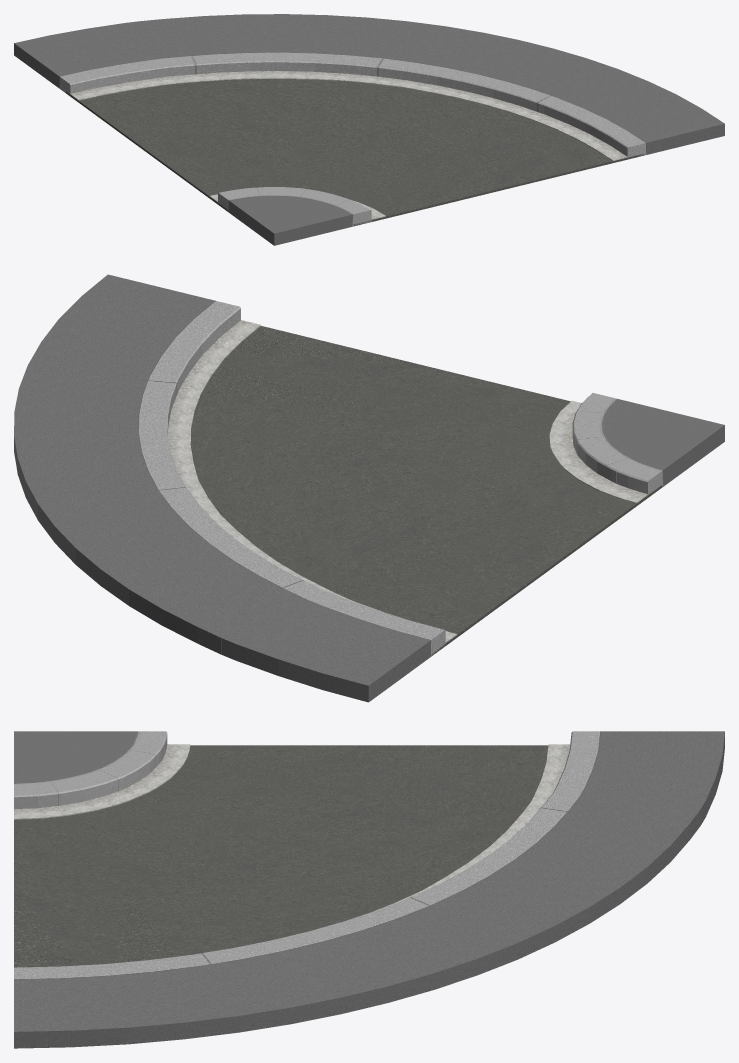
The model's file is routeCourbe1VoieAvecTrottoirs90Deg.obj.
3 renders of one model, top to bottom at view 1: azimuth 30°, elevation 25°; view 2: azimuth 150°, elevation 25°; view 3: azimuth 270°, elevation 25°, orthographic. The views are drawn at different scales.
Visible parts, largest first — view 1: routeCourbe1VoieAvecTrottoirs90degrees_Plane.75deg, routeCourbe1VoieAvecTrottoirs90degrees_Plane.15deg; view 2: routeCourbe1VoieAvecTrottoirs90degrees_Plane.75deg, routeCourbe1VoieAvecTrottoirs90degrees_Plane.15deg; view 3: routeCourbe1VoieAvecTrottoirs90degrees_Plane.75deg, routeCourbe1VoieAvecTrottoirs90degrees_Plane.15deg.
Boxes of the visible parts, x1,y1,x2,y2 form: routeCourbe1VoieAvecTrottoirs90degrees_Plane.75deg: (140, 14, 724, 245); routeCourbe1VoieAvecTrottoirs90degrees_Plane.15deg: (14, 21, 274, 245); routeCourbe1VoieAvecTrottoirs90degrees_Plane.75deg: (14, 274, 724, 654); routeCourbe1VoieAvecTrottoirs90degrees_Plane.15deg: (221, 425, 724, 702); routeCourbe1VoieAvecTrottoirs90degrees_Plane.75deg: (14, 731, 700, 1048); routeCourbe1VoieAvecTrottoirs90degrees_Plane.15deg: (15, 731, 724, 825).
Size of the model in its own units: 695 by 18 by 695.
